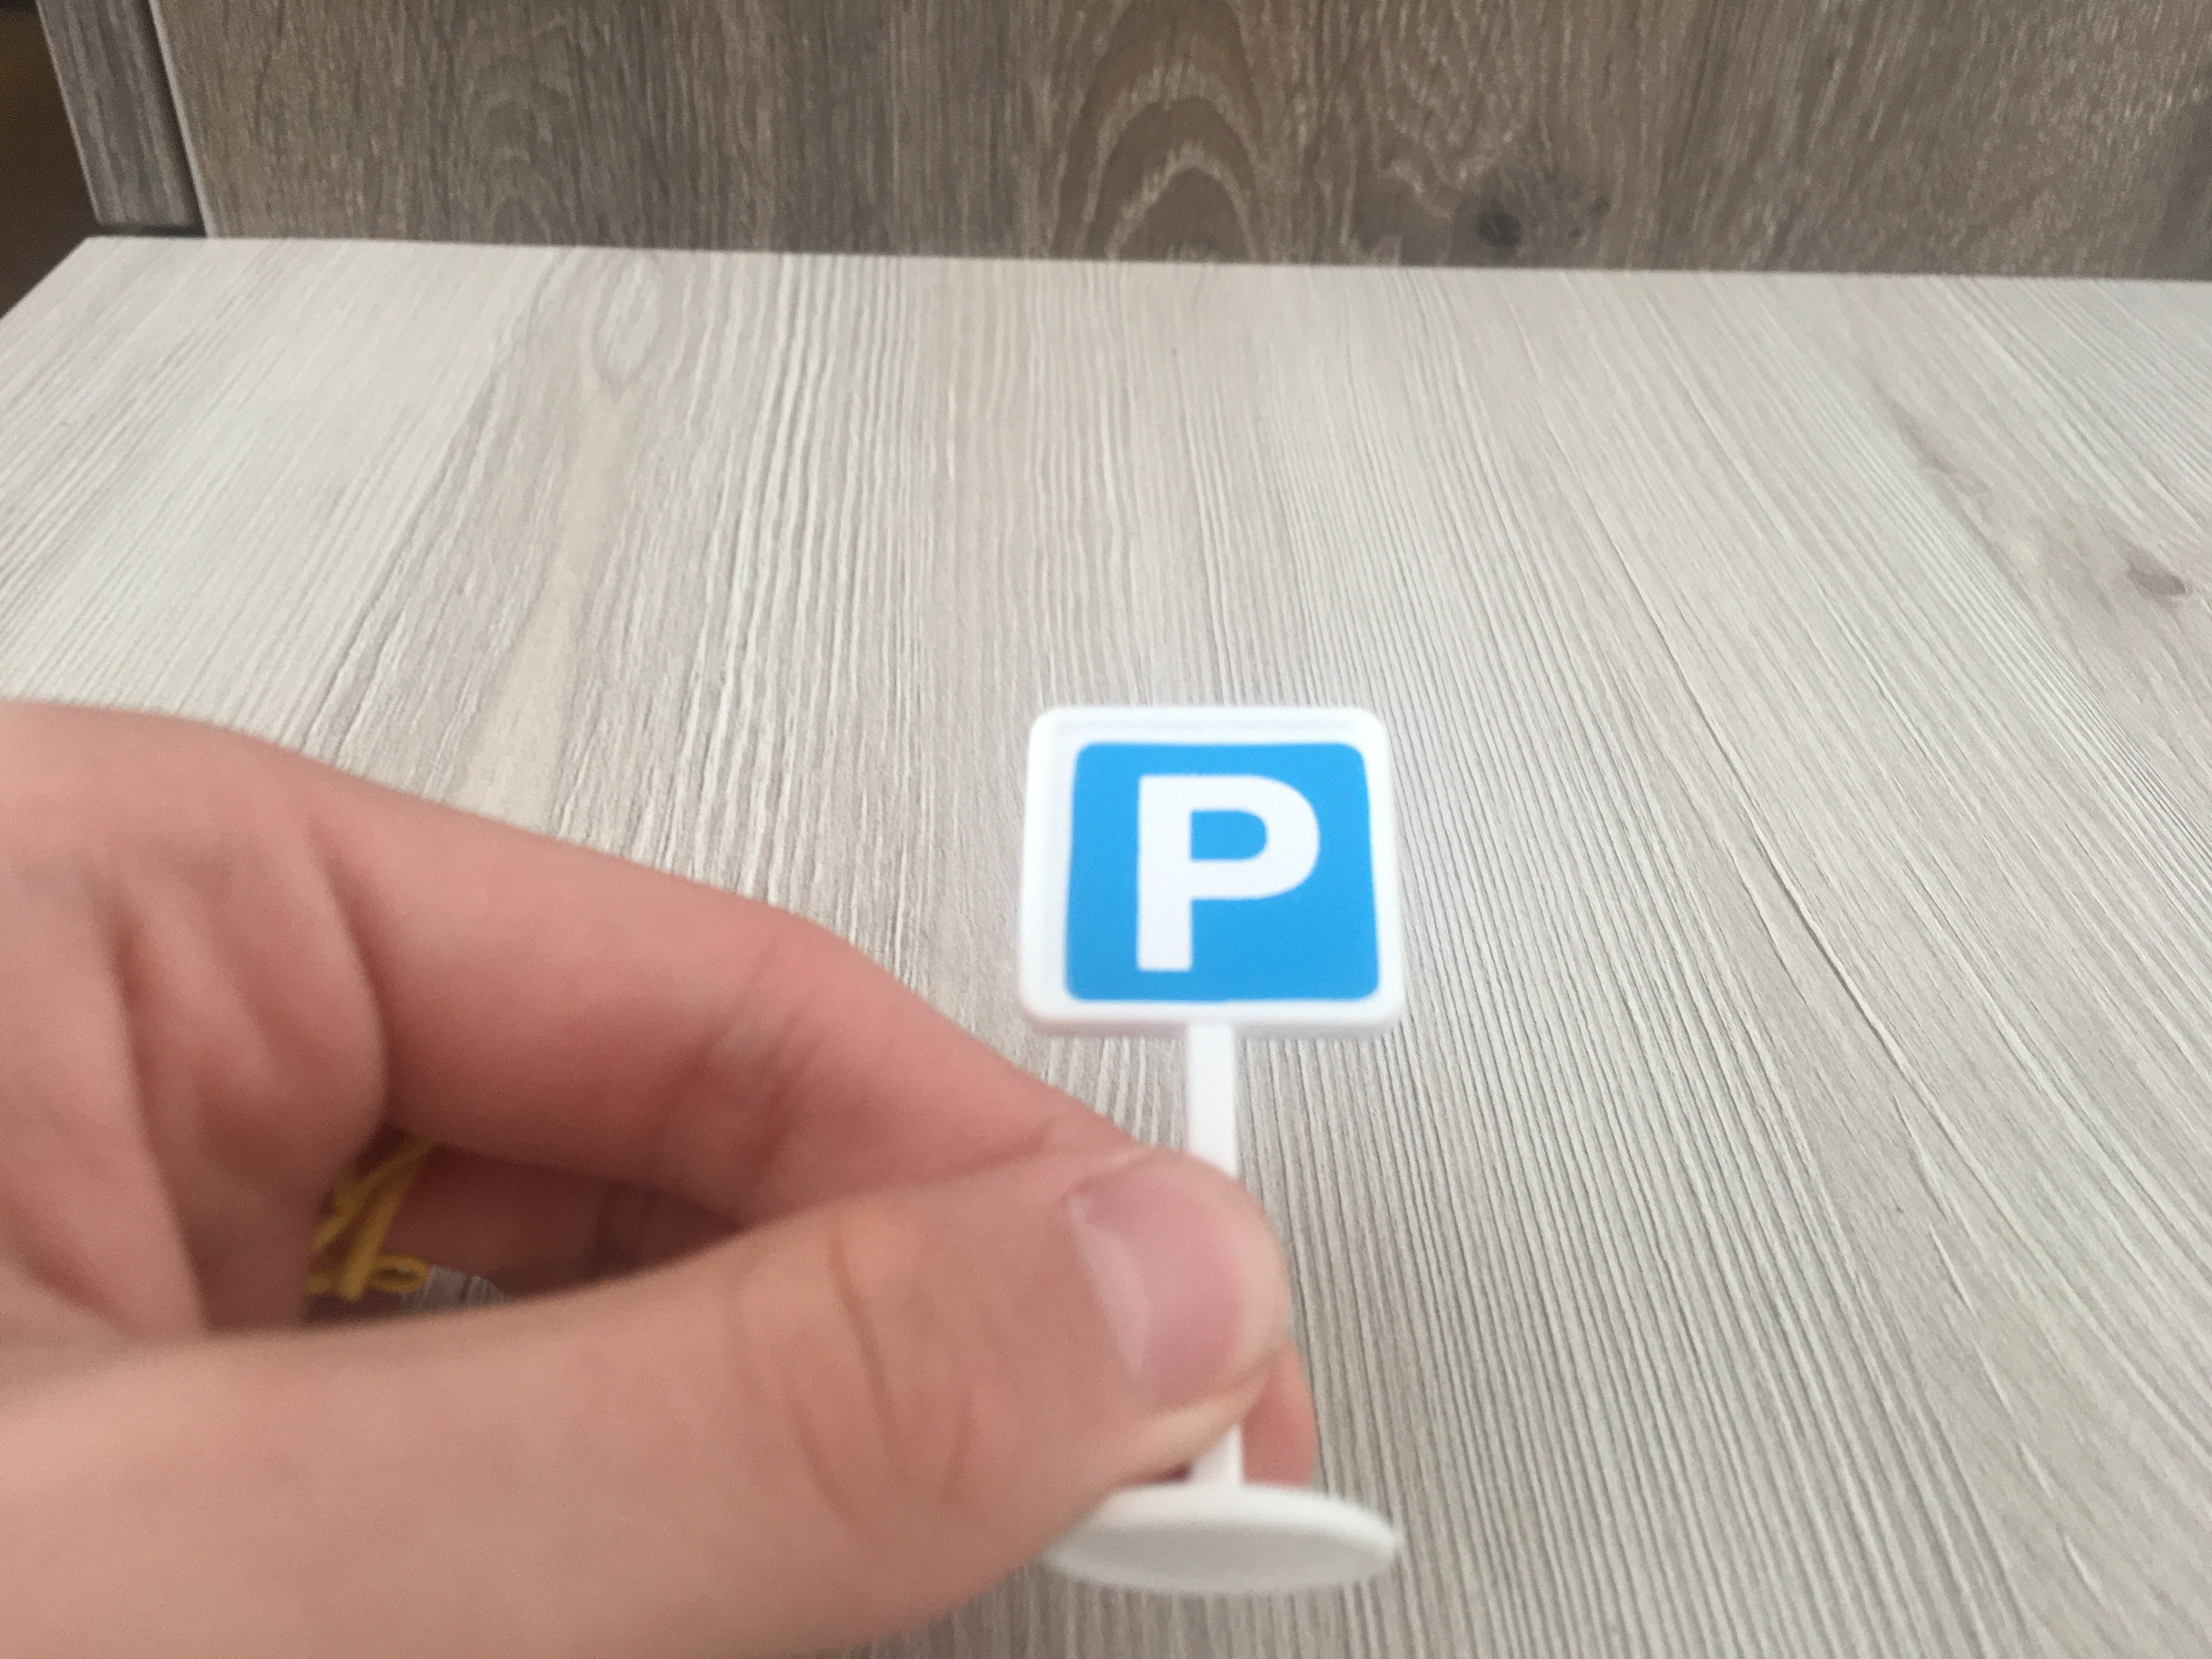parking: (1038, 699, 1416, 1032)
